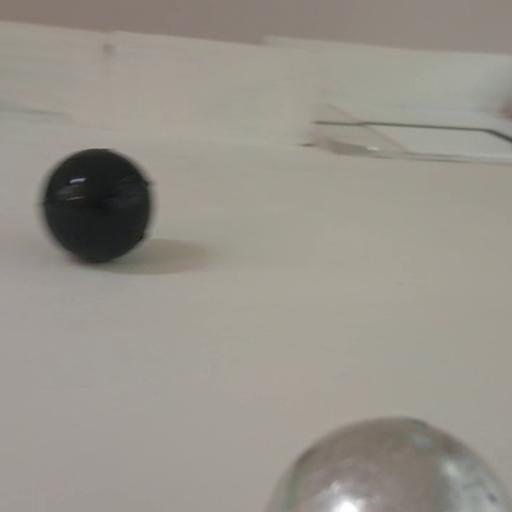alive: (264, 414, 512, 512)
dead: (37, 146, 160, 268)
